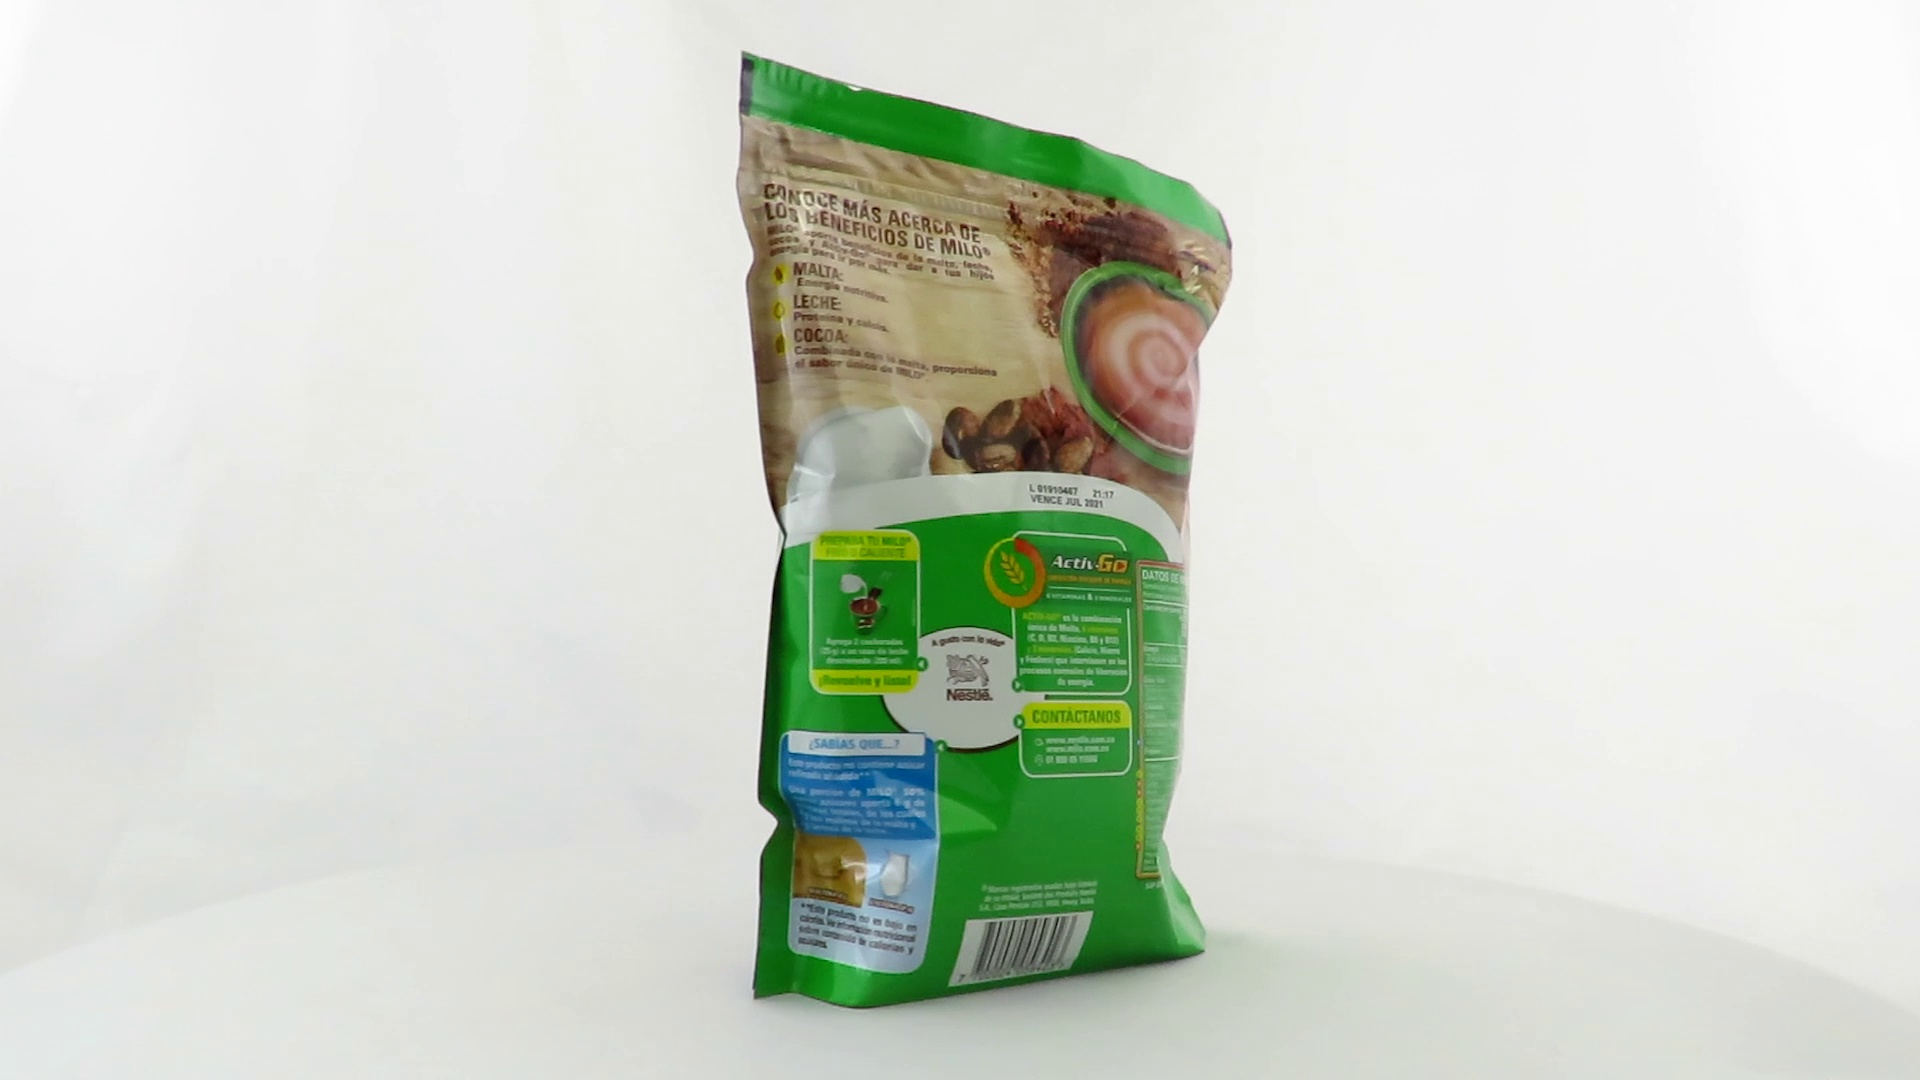COL0170205DYP50000: (731, 46, 1240, 1015)
